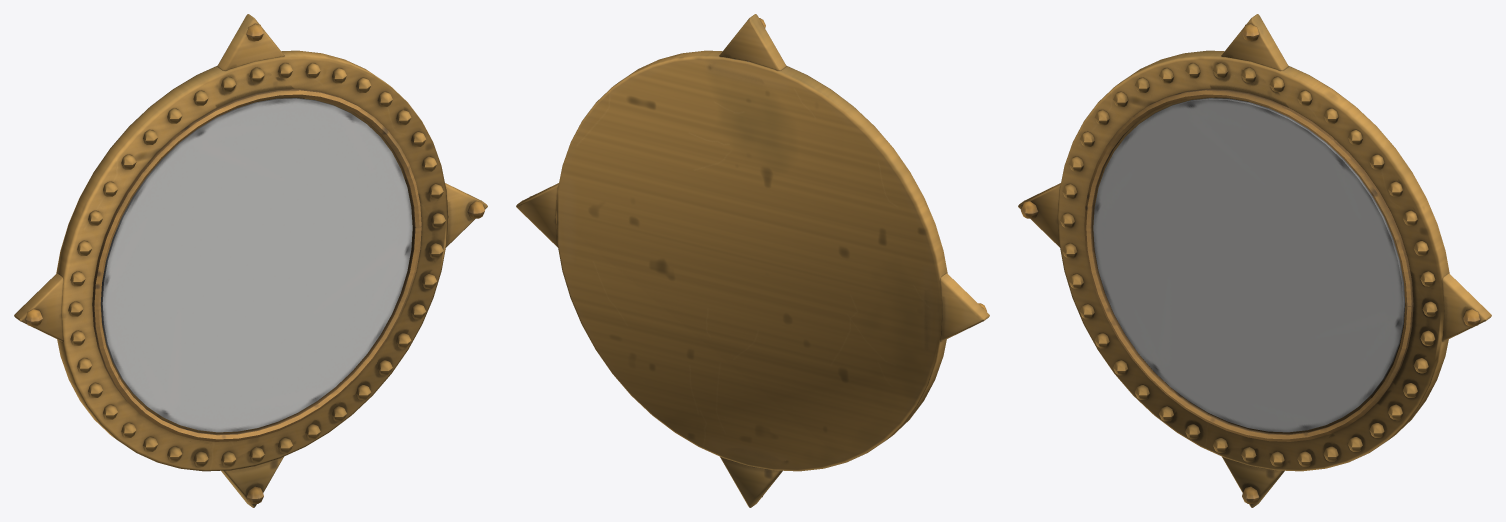
Rendered from Roundel.fbx.
3 renders of one model, left to right at view 1: azimuth 30°, elevation 25°; view 2: azimuth 150°, elevation 25°; view 3: azimuth 330°, elevation 25°, orthographic.
Parts seen in each view (by area): view 1: Roundel_Field, Roundel_Main; view 2: Roundel_Main; view 3: Roundel_Field, Roundel_Main.
Boxes of the visible parts, x1,y1,x2,y2 form: Roundel_Field: (101,98,412,432); Roundel_Main: (14,14,487,507); Roundel_Main: (516,14,989,507); Roundel_Field: (1093,98,1404,432); Roundel_Main: (1018,14,1491,507).
Size of the model in its own units: 169 by 169 by 9.
